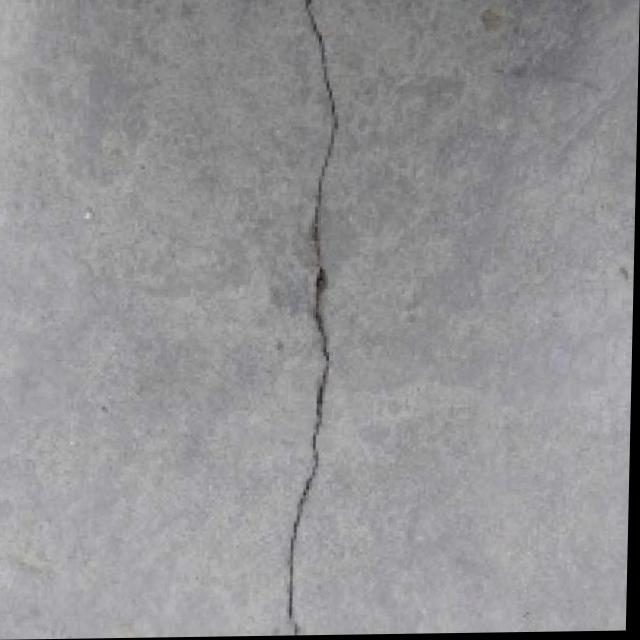Crack: (251, 0, 352, 637)
